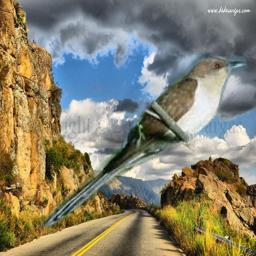Cuckoo: (38, 54, 252, 236)
